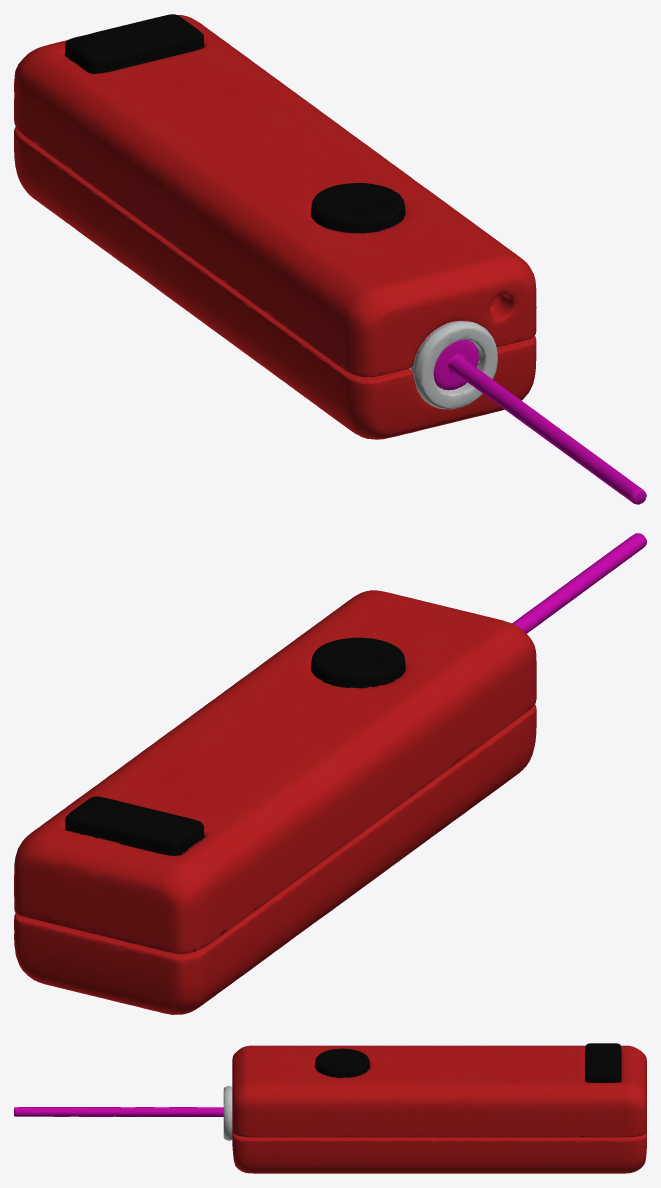
The model's file is special_LaserPointerSmall.glb.
3 views of the same model, one above another, from view 1: azimuth 30°, elevation 25°; view 2: azimuth 150°, elevation 25°; view 3: azimuth 270°, elevation 25° (orthographic). The views are drawn at different scales.
Visible parts, largest first — view 1: world; view 2: world; view 3: world.
Part boxes in pixels (x1,y1,x2,y2): world: (14, 14, 646, 504); world: (14, 533, 646, 1014); world: (14, 1043, 646, 1173).
Bounding box in the file's own units: 0.1992 × 0.1673 × 1.
1 material, 1 textured.
